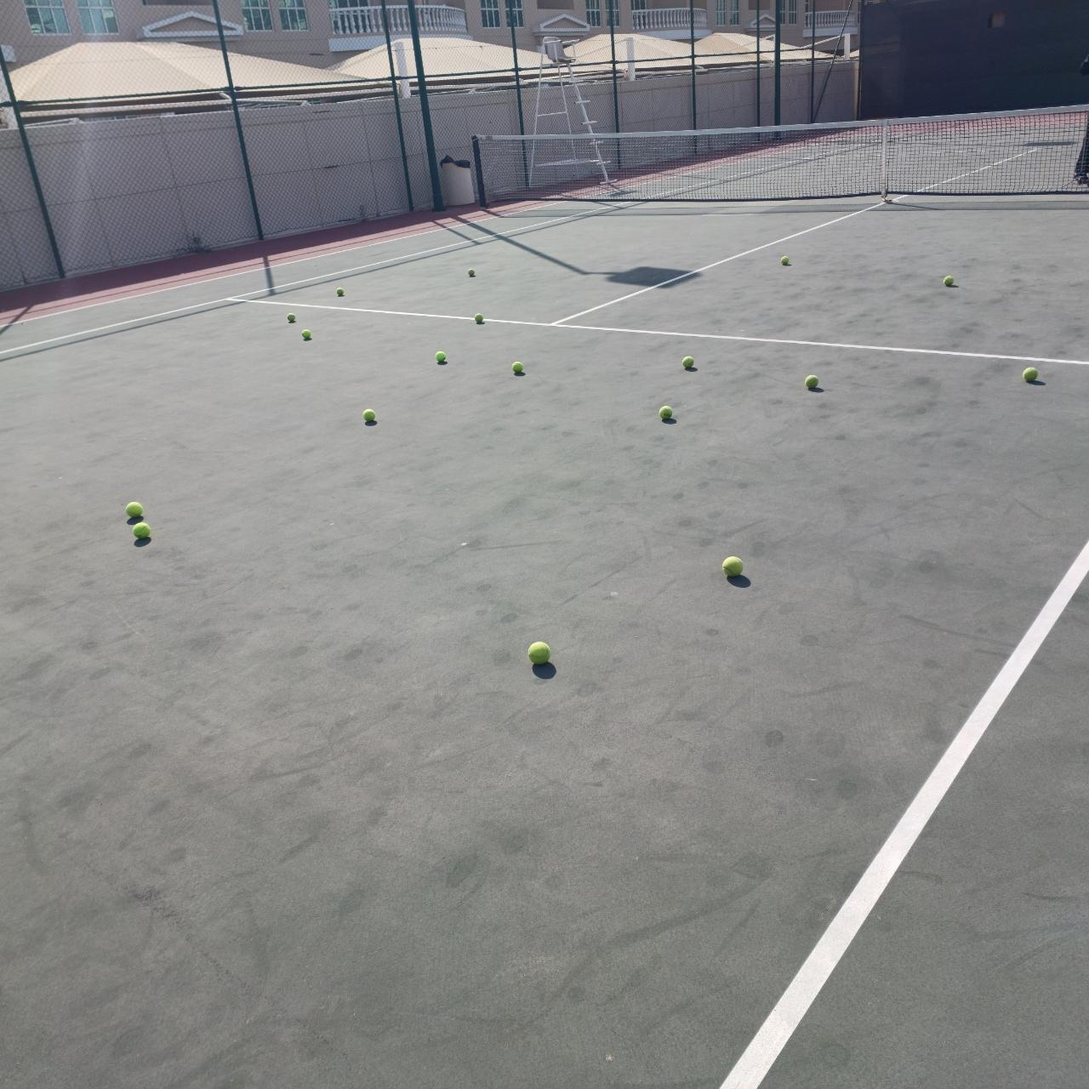tennis-ball: (526, 638, 550, 664), (721, 553, 744, 577), (124, 501, 144, 519), (132, 522, 151, 539), (1021, 364, 1038, 382), (803, 373, 819, 390), (657, 403, 673, 419), (361, 407, 376, 424), (510, 359, 523, 374), (942, 273, 955, 287), (434, 349, 446, 363), (683, 356, 694, 368), (301, 329, 312, 339), (286, 312, 297, 322), (475, 313, 484, 324), (780, 255, 789, 265), (336, 287, 345, 295), (467, 268, 475, 276)
